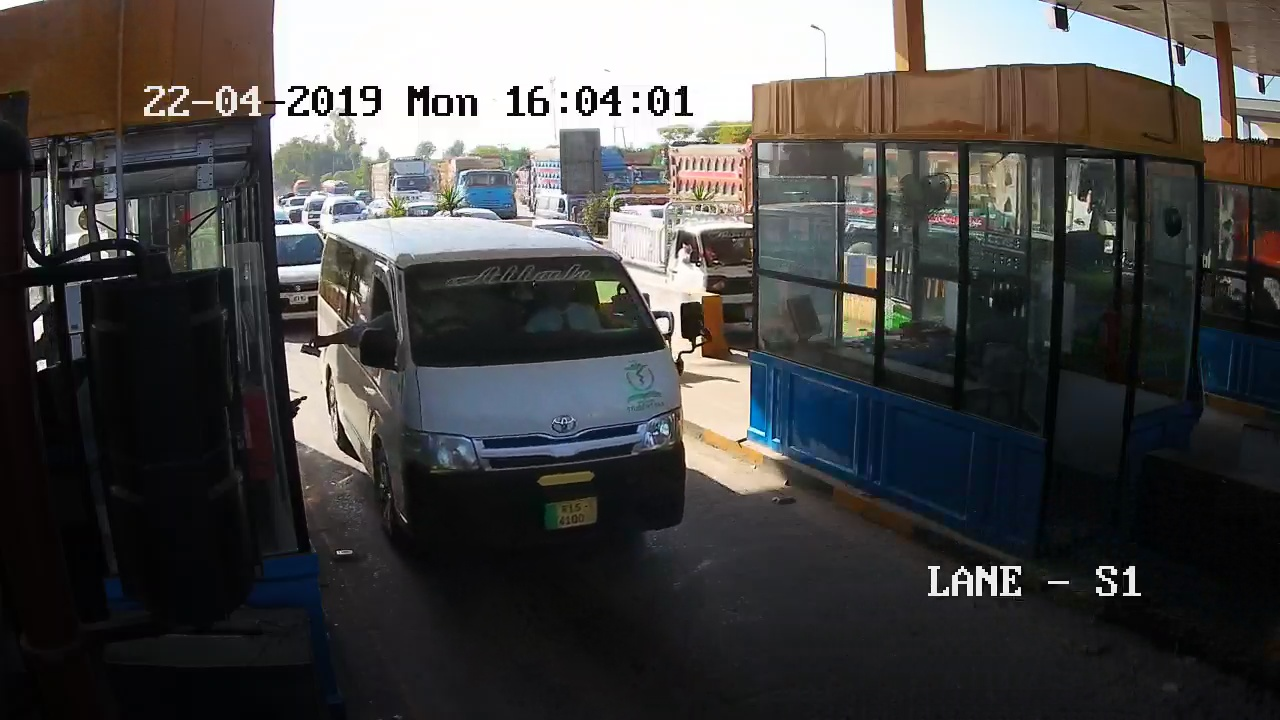Number Plate (Car): (542, 498, 600, 529)
